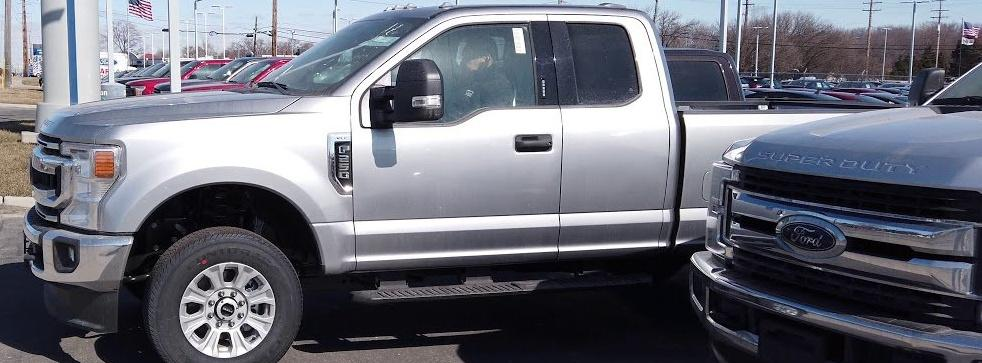Trucks: (23, 6, 848, 362)
